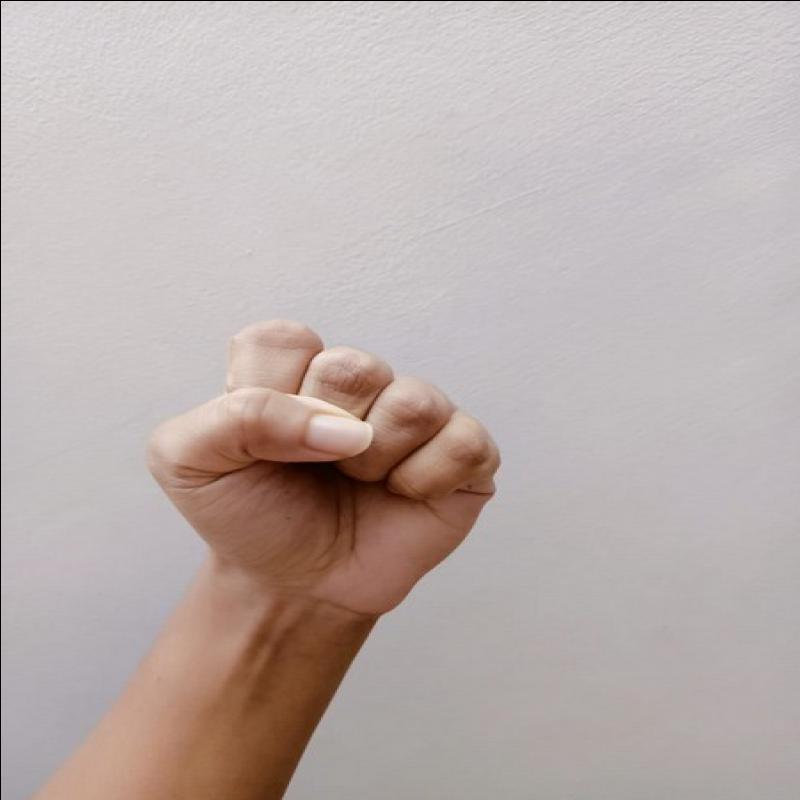Mushti: (144, 304, 512, 641)
